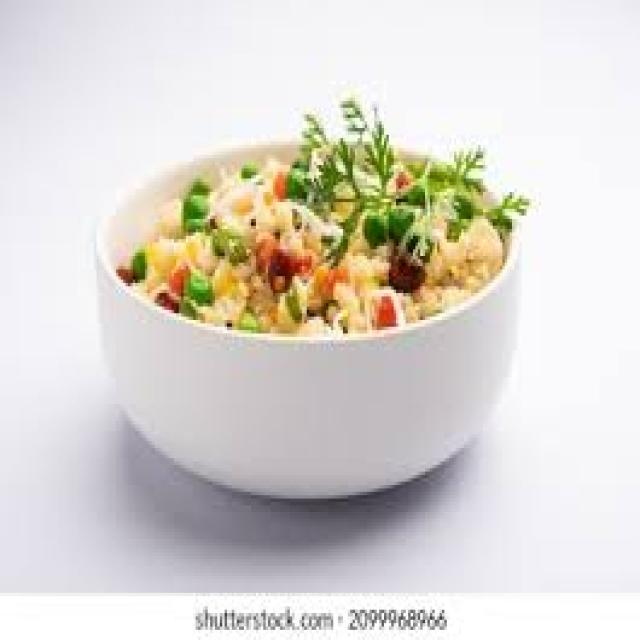UPMA: (114, 98, 510, 330)
